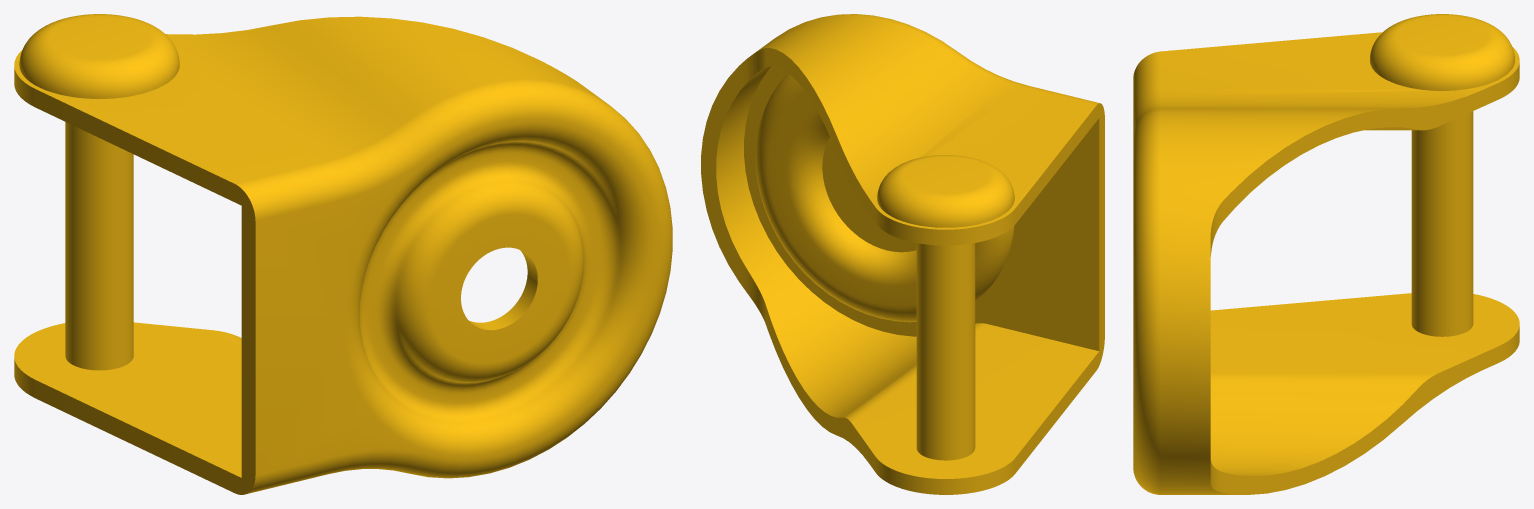
The model's file is Caster Wheel Holder.gltf.
3 views of the same model, side by side, from view 1: azimuth 30°, elevation 25°; view 2: azimuth 150°, elevation 25°; view 3: azimuth 270°, elevation 25° (orthographic). The views are drawn at different scales.
Parts seen in each view (by area): view 1: Part 1; view 2: Part 1; view 3: Part 1.
Part boxes in pixels (box(x1,y1,x2,y2)): Part 1: box(14, 14, 672, 494); Part 1: box(701, 14, 1104, 494); Part 1: box(1133, 14, 1519, 494).
Size of the model in its own units: 3.3e-05 by 2.5e-05 by 2.5e-05.
